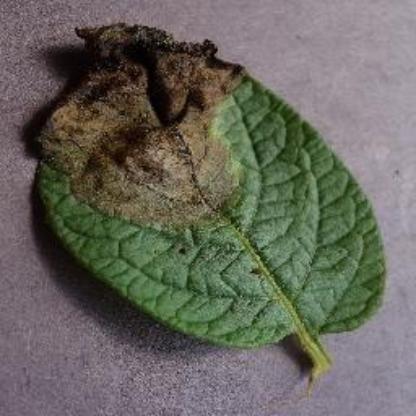Late-Blight: (30, 20, 388, 374)
